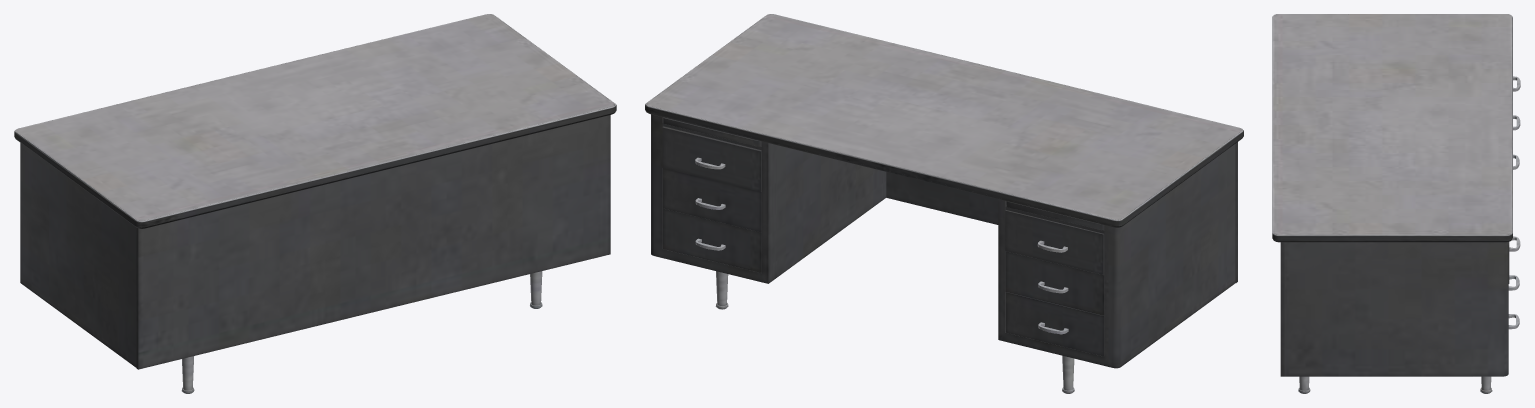
Rendered from desk.glb.
3 views of the same model, side by side, from view 1: azimuth 30°, elevation 25°; view 2: azimuth 150°, elevation 25°; view 3: azimuth 270°, elevation 25° (orthographic). The views are drawn at different scales.
Visible parts, largest first — view 1: metal_office_desk; view 2: metal_office_desk; view 3: metal_office_desk.
Part boxes in pixels (left/top/right/bottom): metal_office_desk: left=14, top=14, right=616, bottom=393; metal_office_desk: left=645, top=14, right=1243, bottom=393; metal_office_desk: left=1272, top=14, right=1520, bottom=393.
Size of the model in its own units: 2 by 0.7875 by 0.9472.
1 material, 1 textured.
